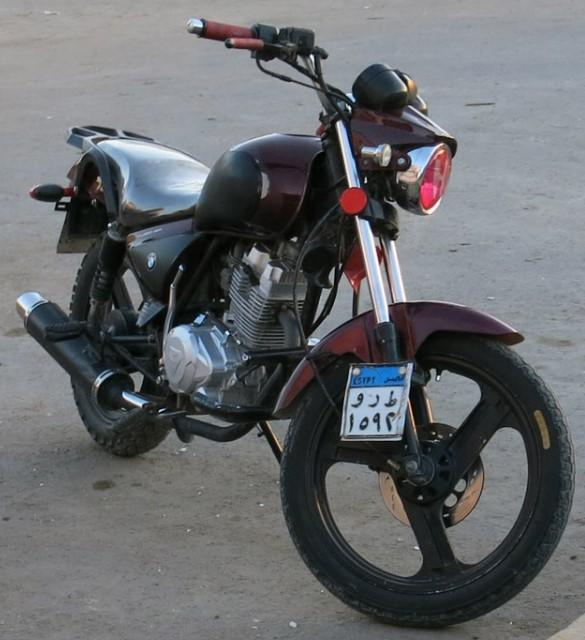License Plate: (339, 359, 411, 441)
